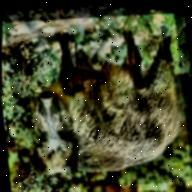boar: (4, 0, 192, 188)
